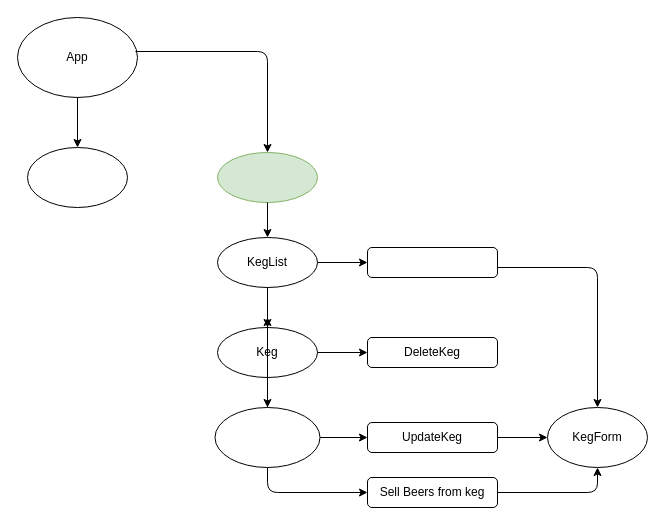
The diagram is 665 pixels wide and 525 high, and some of its shapes have lost their labels. The centre of each missing label's shape, as x and y in pixels:
"Add Keg" goes at [432,262].
"Header" goes at [77,177].
"KegControl" goes at [267,177].
"KegDetail" goes at [267,437].
